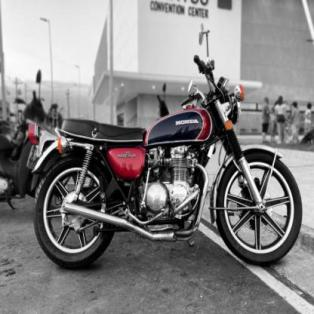Motocicleta: (32, 30, 306, 270)
